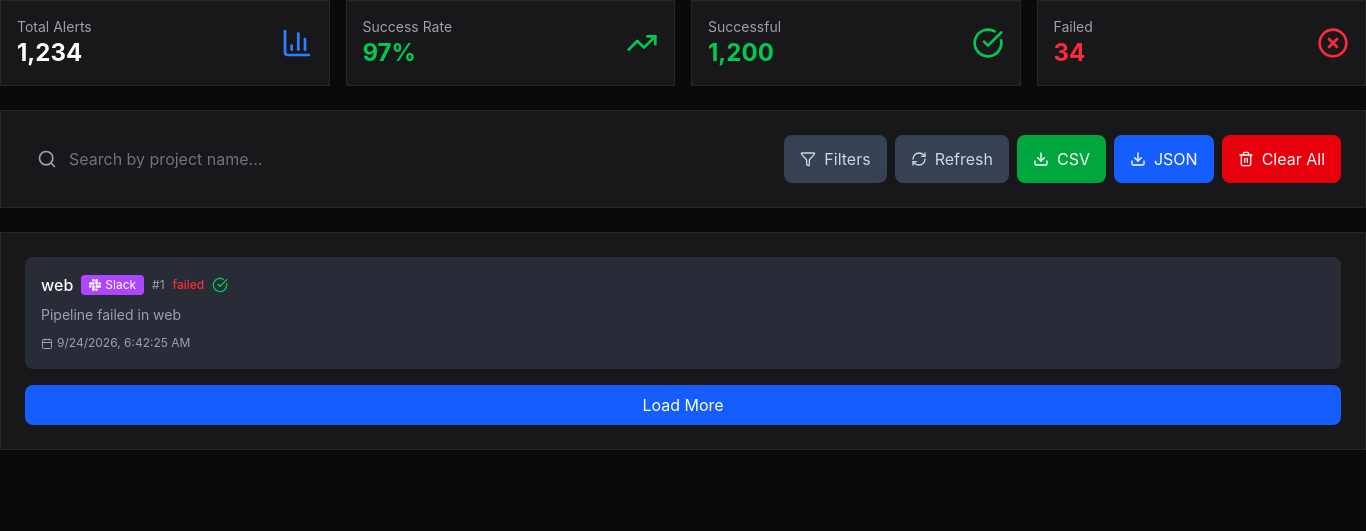
Test case: AlertHistory › appends the next page on "Load More"
The image size is (1366, 531).
Click the button "Load More" at (683, 405), box [25, 385, 1341, 425]
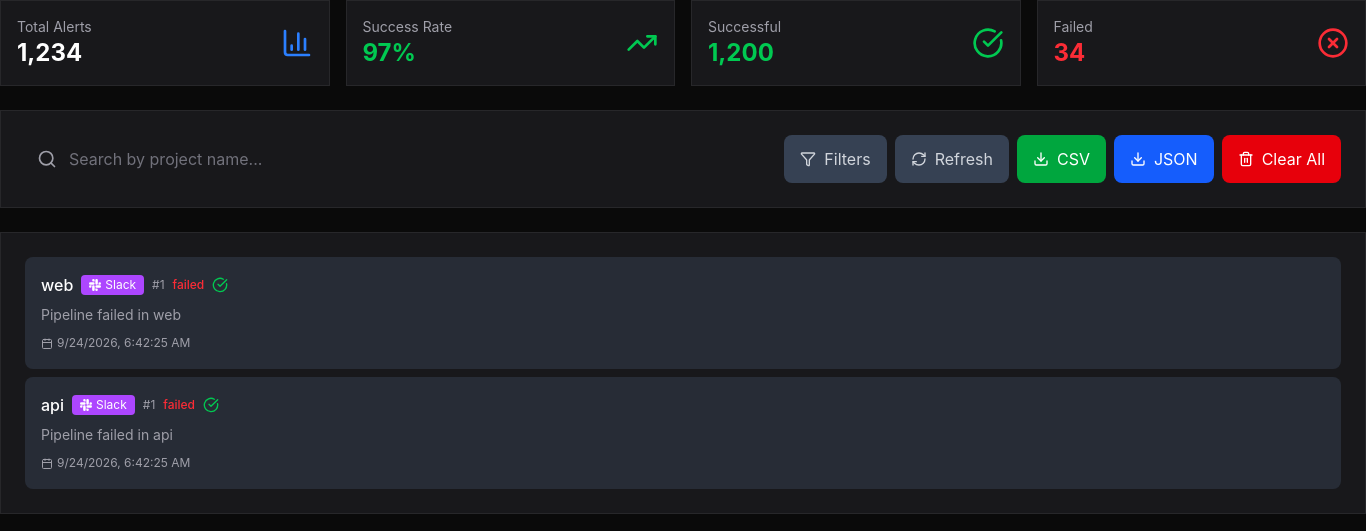
Expected: the text "Pipeline failed in web" is shown, [41, 306, 181, 323]
Expected: the text "Pipeline failed in api" is shown, [41, 426, 173, 443]
Expected: the button "Load More" is gone
